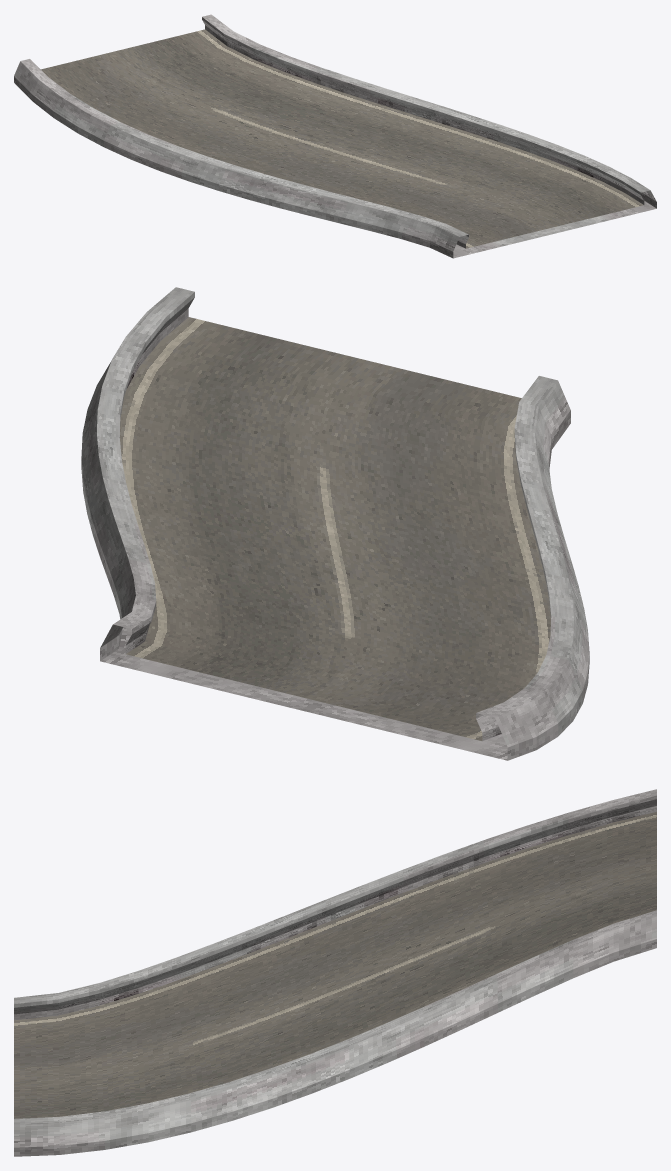
The model's file is road-Chicane-Flat-BiSlopeUp-Up1-Left1-Size2.glb.
The picture shows the model from 3 angles, top to bottom: view 1: azimuth 30°, elevation 25°; view 2: azimuth 150°, elevation 25°; view 3: azimuth 270°, elevation 25°; orthographic projection. The views are drawn at different scales.
Parts seen in each view (by area): view 1: road-Chicane-Flat-BiSlopeUp-Up1-Left1-Size2; view 2: road-Chicane-Flat-BiSlopeUp-Up1-Left1-Size2; view 3: road-Chicane-Flat-BiSlopeUp-Up1-Left1-Size2.
Part boxes in pixels (<box>): road-Chicane-Flat-BiSlopeUp-Up1-Left1-Size2: <box>14,14,656,258</box>; road-Chicane-Flat-BiSlopeUp-Up1-Left1-Size2: <box>81,287,589,760</box>; road-Chicane-Flat-BiSlopeUp-Up1-Left1-Size2: <box>14,789,656,1156</box>.
Size of the model in its own units: 2 by 0.3438 by 2.
2 materials, 2 textured.
